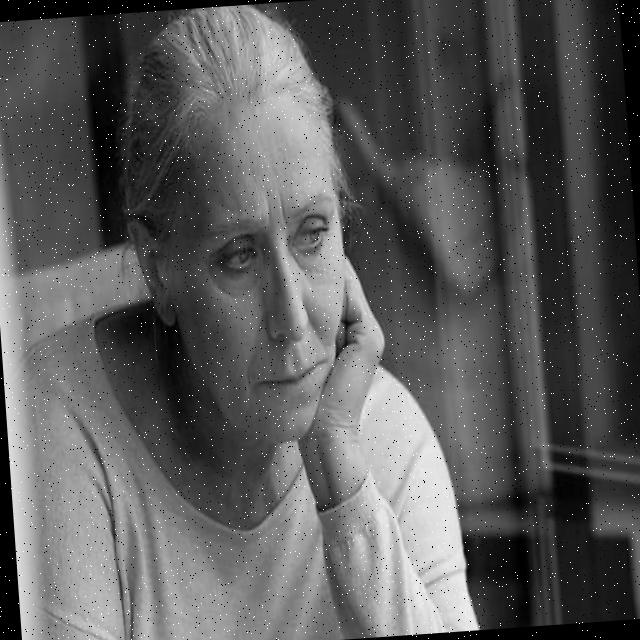Sadness: (168, 91, 355, 445)
